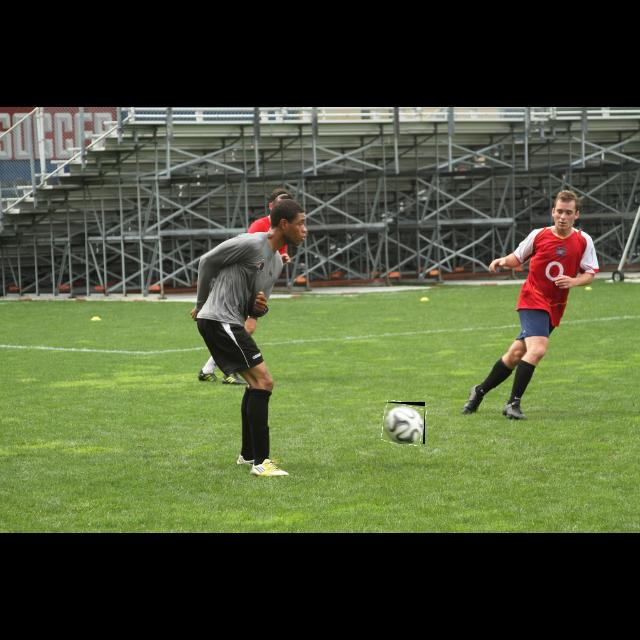Football: (383, 402, 425, 444)
